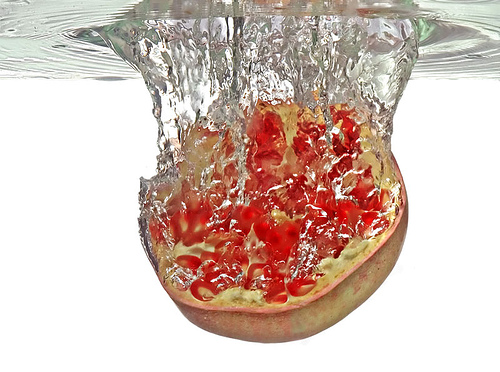pomogranate: (148, 89, 409, 345)
